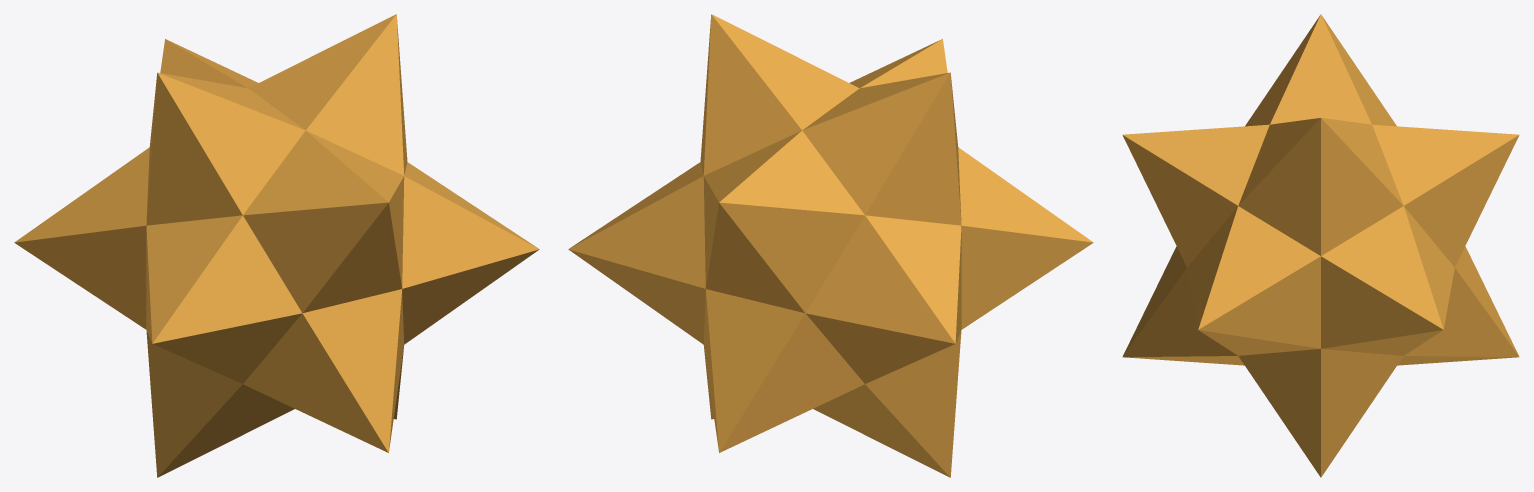
Rendered from star.fbx.
The picture shows the model from 3 angles, left to right: view 1: azimuth 30°, elevation 25°; view 2: azimuth 150°, elevation 25°; view 3: azimuth 270°, elevation 25°; orthographic projection. The views are drawn at different scales.
Visible parts, largest first — view 1: Solid.001; view 2: Solid.001; view 3: Solid.001.
Part boxes in pixels (x1,y1,x2,y2): Solid.001: (14,14,539,477); Solid.001: (568,14,1093,477); Solid.001: (1122,14,1519,477).
Size of the model in its own units: 277 by 277 by 277.
